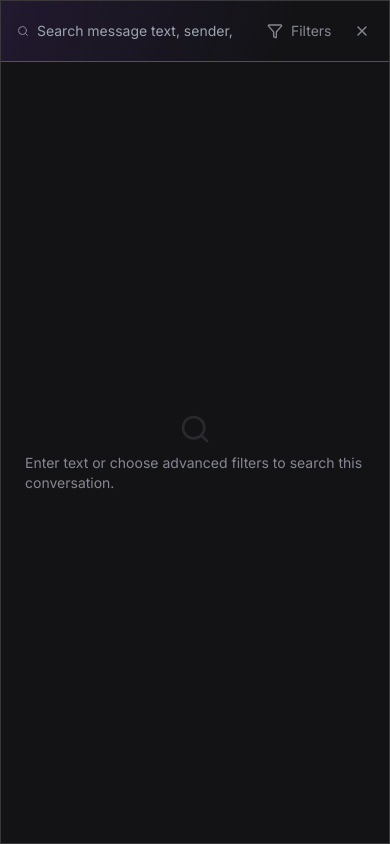
Test: MessageSearch › discards a load-more response after the search criteria change
Step 1. Type "old query" into the search field named "Search messages" → x=142, y=31, box [37,21,247,41]
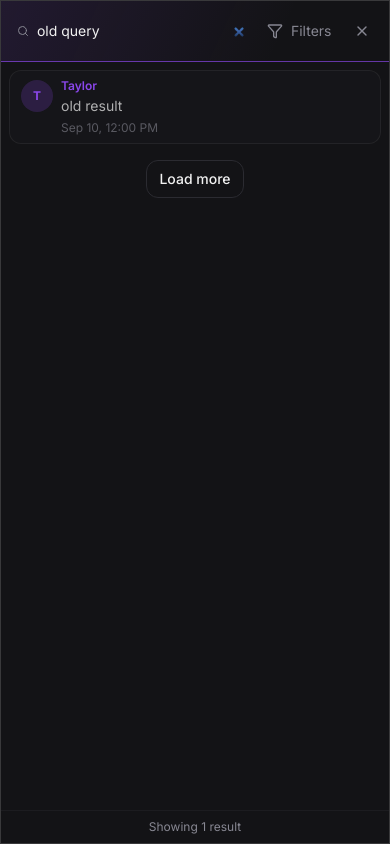
Expected: the text "old result" is shown, [61,97,122,114]
Step 2. Click the button "Load more" → x=195, y=179, box [146,160,244,198]
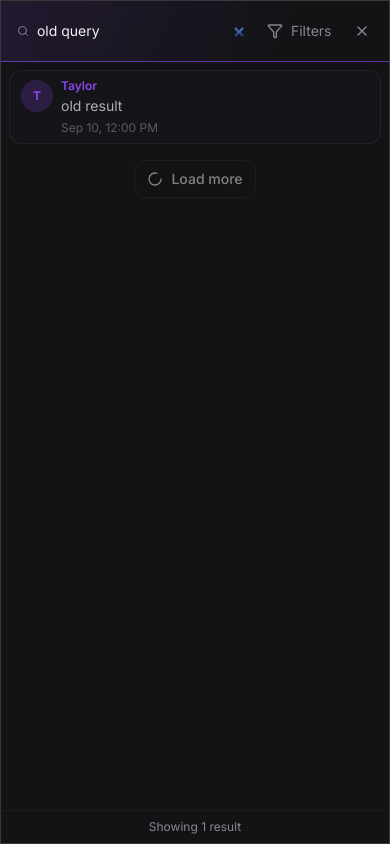
Step 3. Replace the text in the search field named "Search messages" with "new query" → x=142, y=31, box [37,21,247,41]
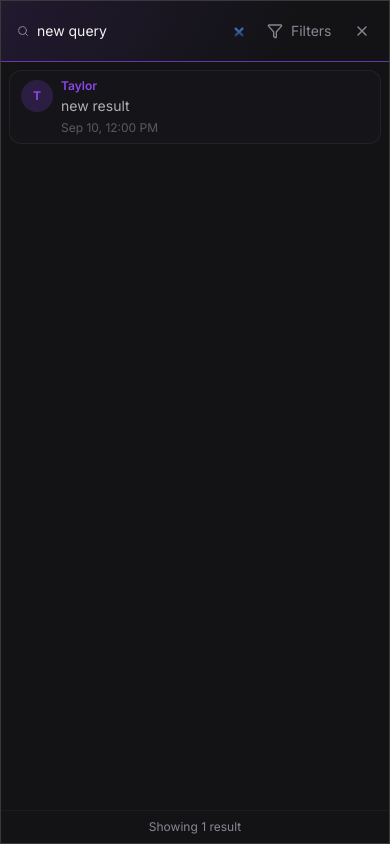
Expected: the text "new result" is shown, [61,97,130,114]
